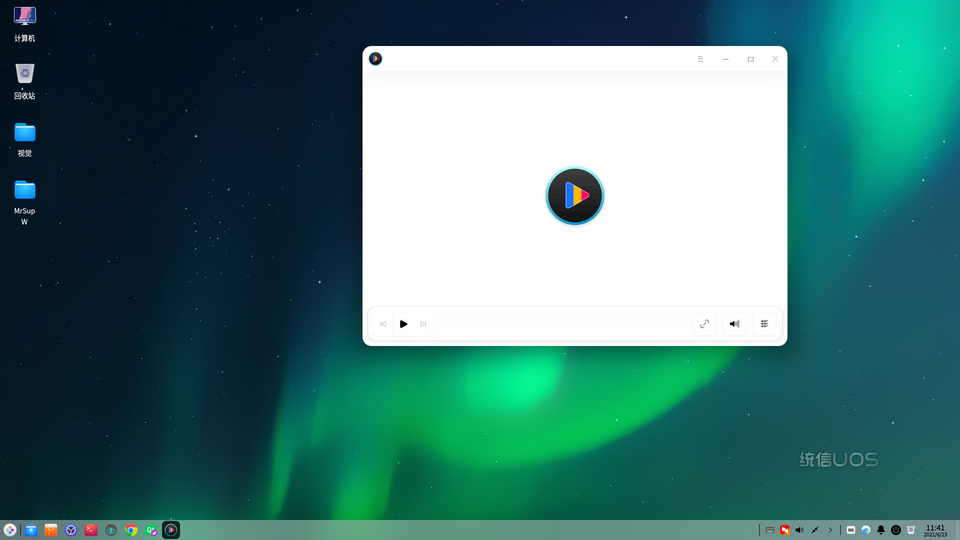window: (359, 43, 788, 347)
